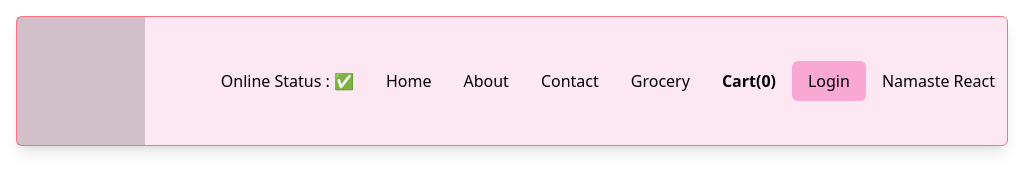
Test case: Should render Header component with a login button
Click the button "Login" at [829, 81], box [792,61,866,101]
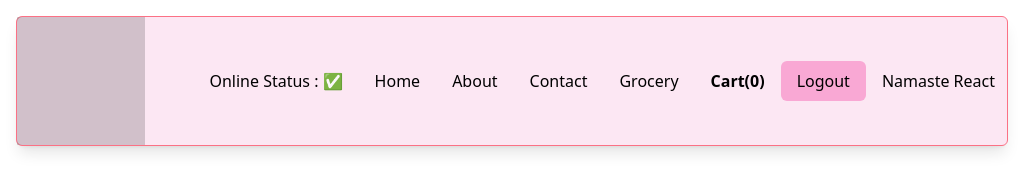
Now the button "Logout" is shown, box [781,61,866,101]
